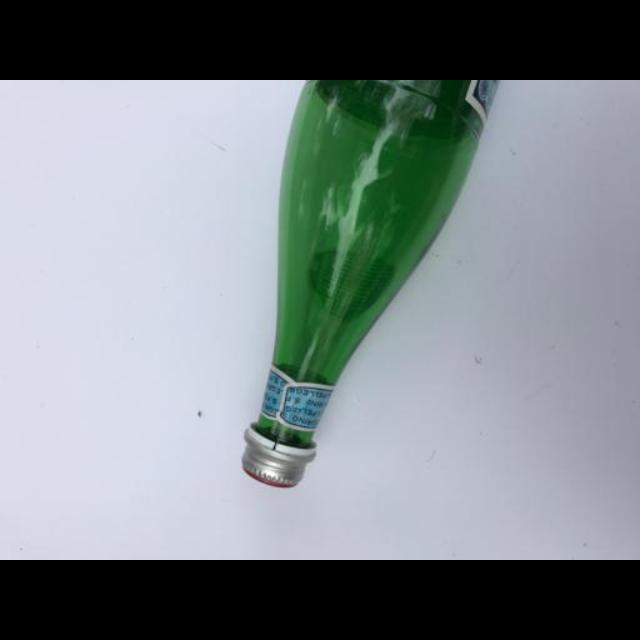garrafa de vidro: (241, 80, 497, 482)
